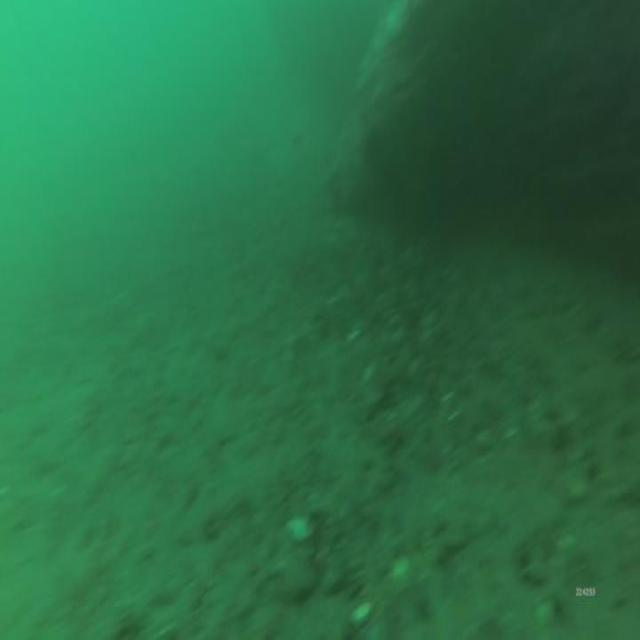echinus: (358, 122, 388, 175)
